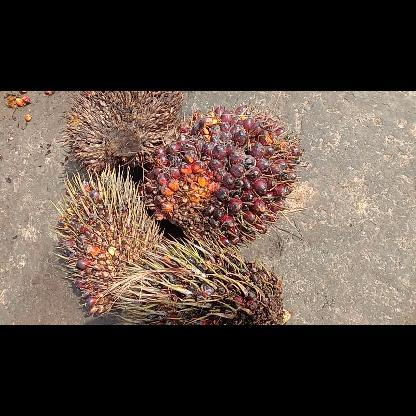Kurang masak: (92, 236, 288, 324)
TBS abnormal: (55, 168, 159, 314), (61, 91, 182, 169)
Terlalu masak: (144, 105, 304, 245)
